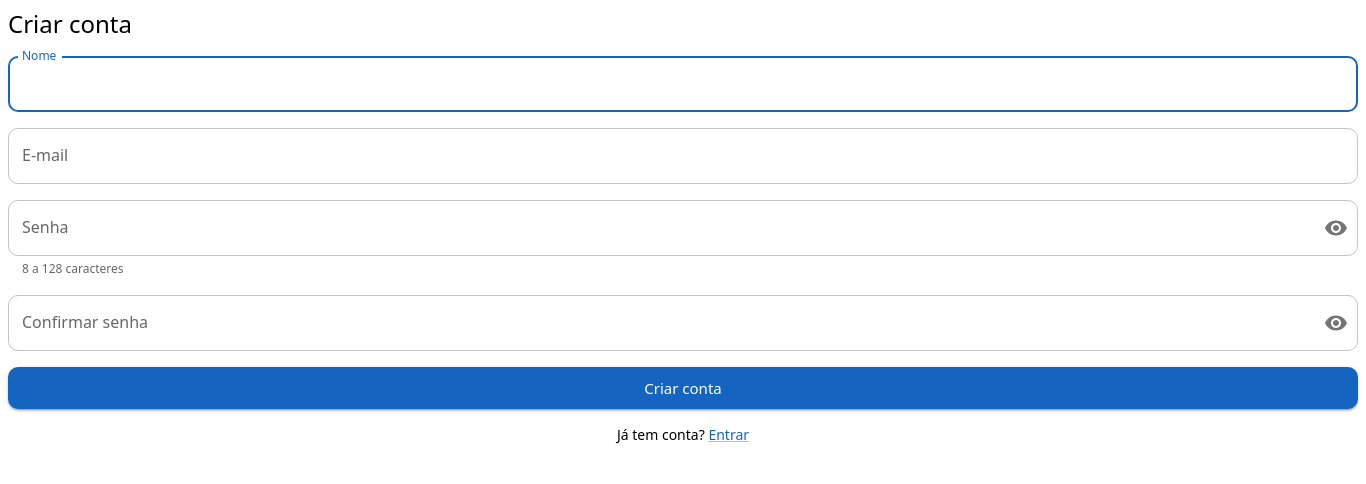
Test: Registro: envio e senhas › as senhas voltam a ficar ocultas ao enviar
The image size is (1366, 484).
In the field labelled "Nome": (683, 84) [8,56,1358,112], type "Caio Souza"
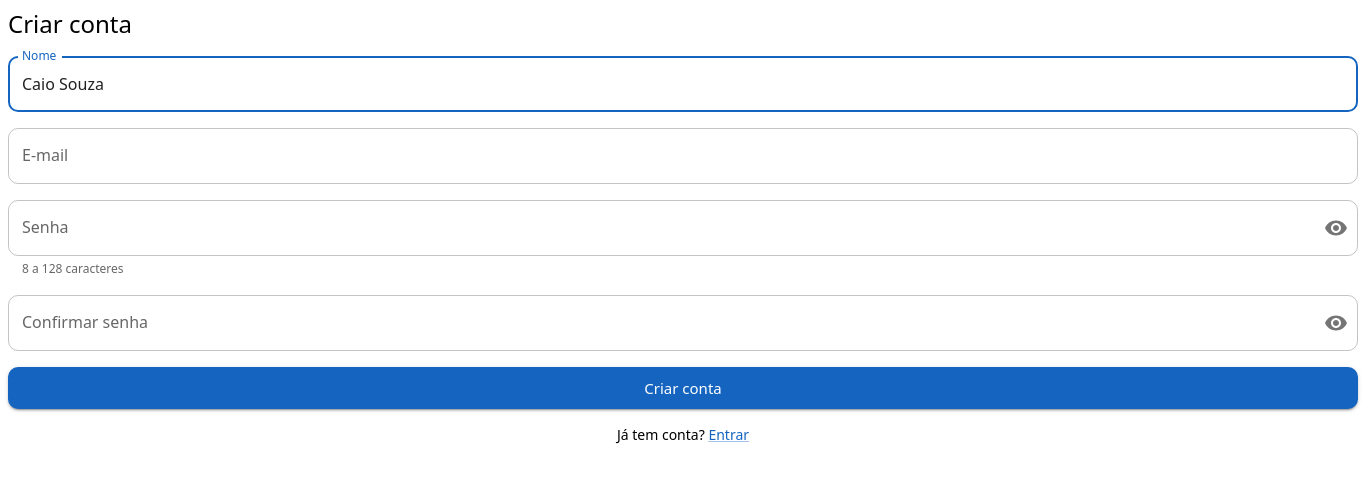
In the field labelled "E-mail": (683, 156) [8,128,1358,184], type "ana@example.com"
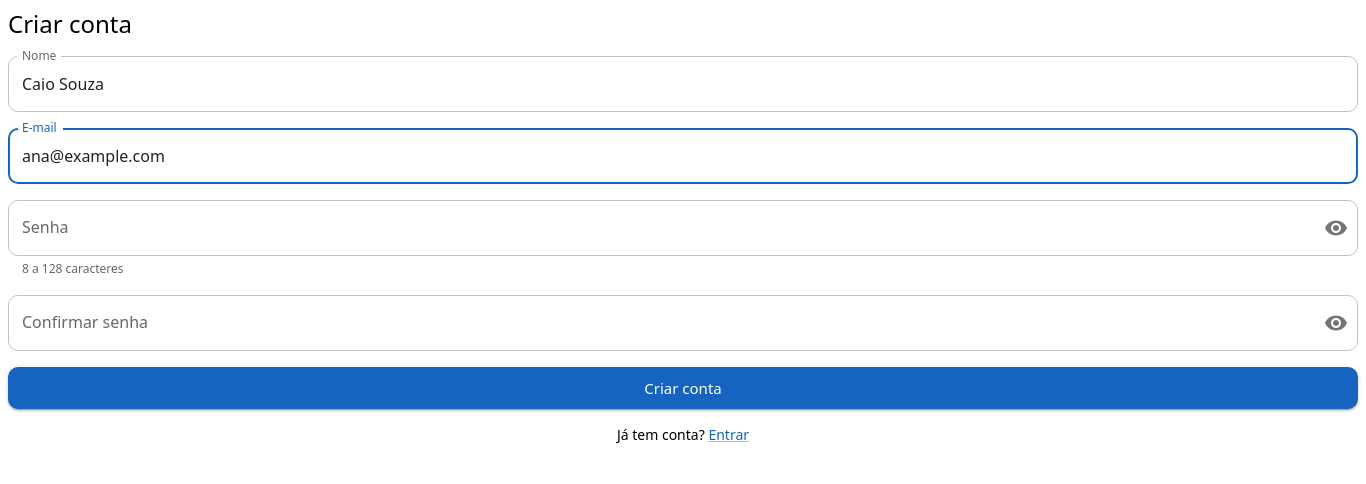
In the password field labelled "Senha": (658, 228) [8,200,1308,256], type "uma senha longa"
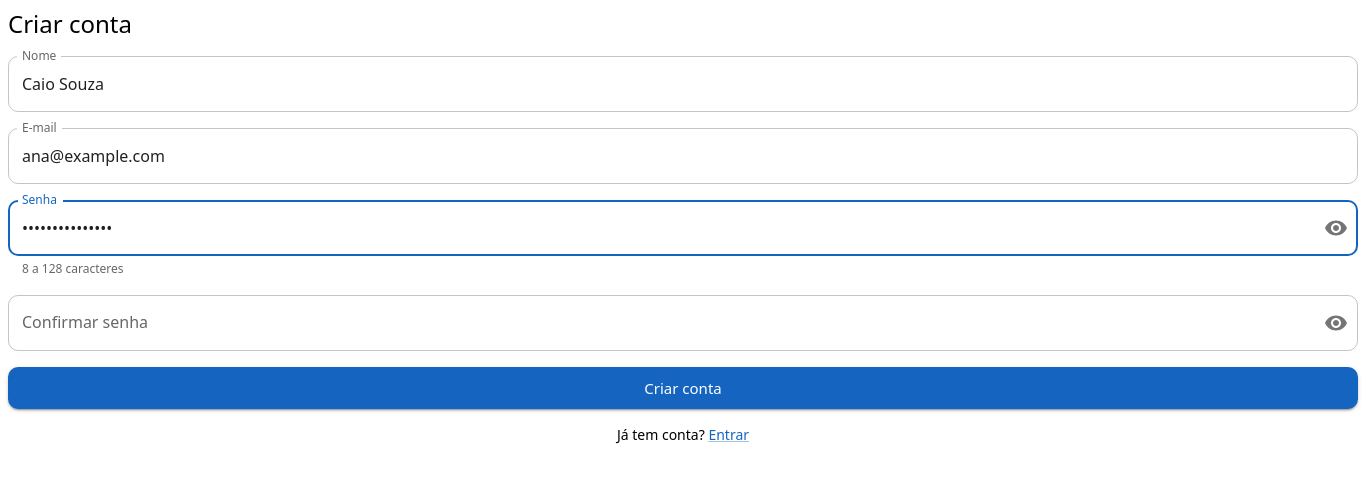
In the password field labelled "Confirmar senha": (658, 323) [8,295,1308,351], type "uma senha longa"
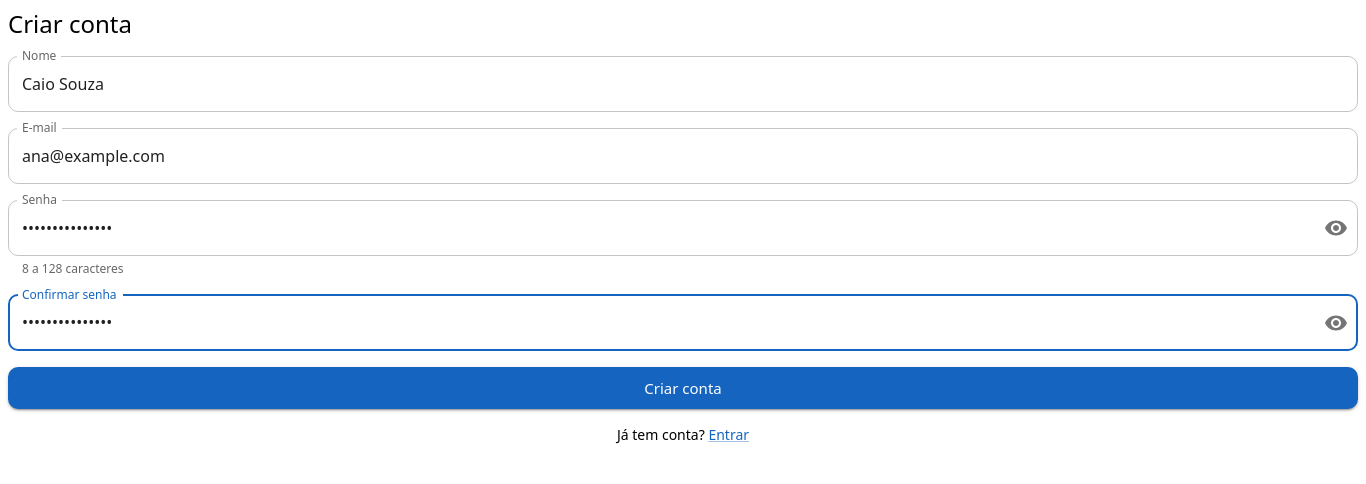
Click the button named "Mostrar senha": (1336, 228) [1316,208,1356,248]
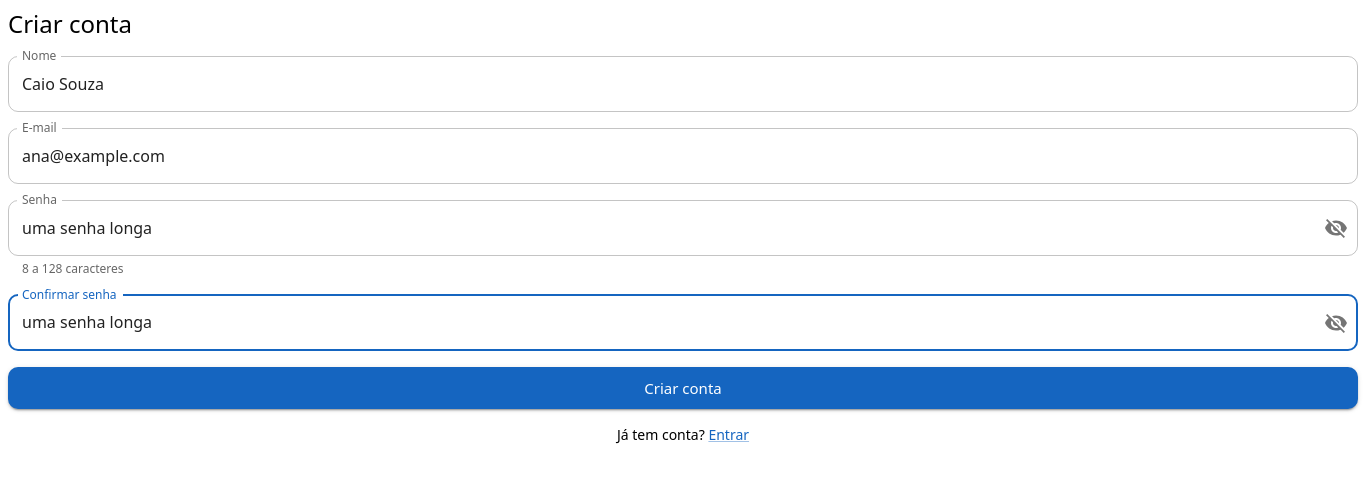
Expected: the field labelled "Senha" shows its text, [8,200,1308,256]
Click the button "Criar conta": (683, 388) [8,367,1358,409]
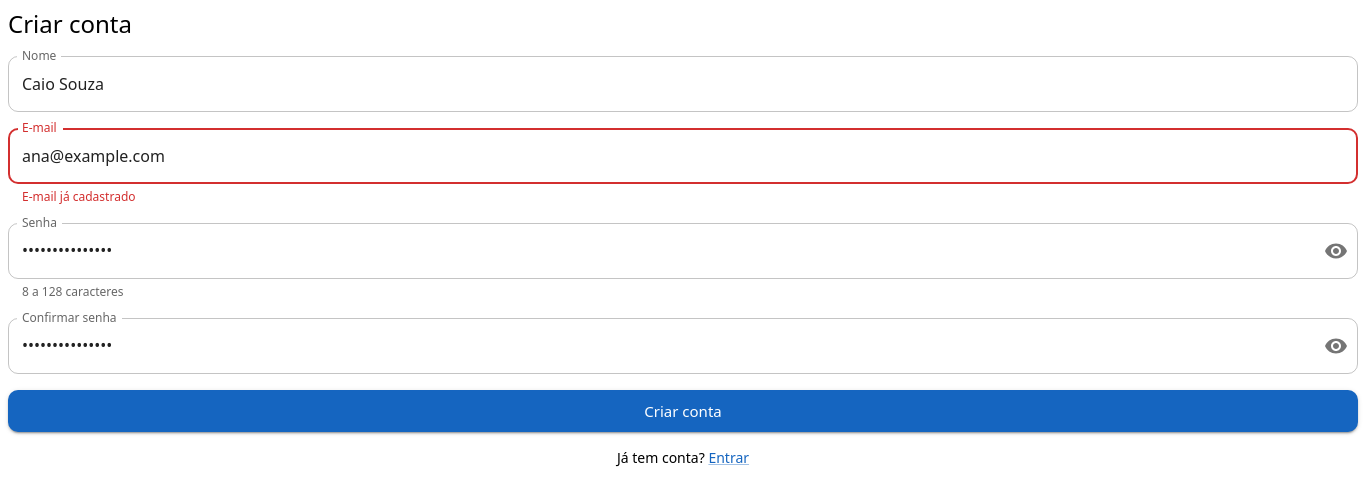
Expected: the text "E-mail já cadastrado" is shown, [22,188,136,205]
Expected: the password field labelled "Senha" hides its text, [8,223,1308,279]
Expected: the password field labelled "Confirmar senha" hides its text, [8,318,1308,374]
